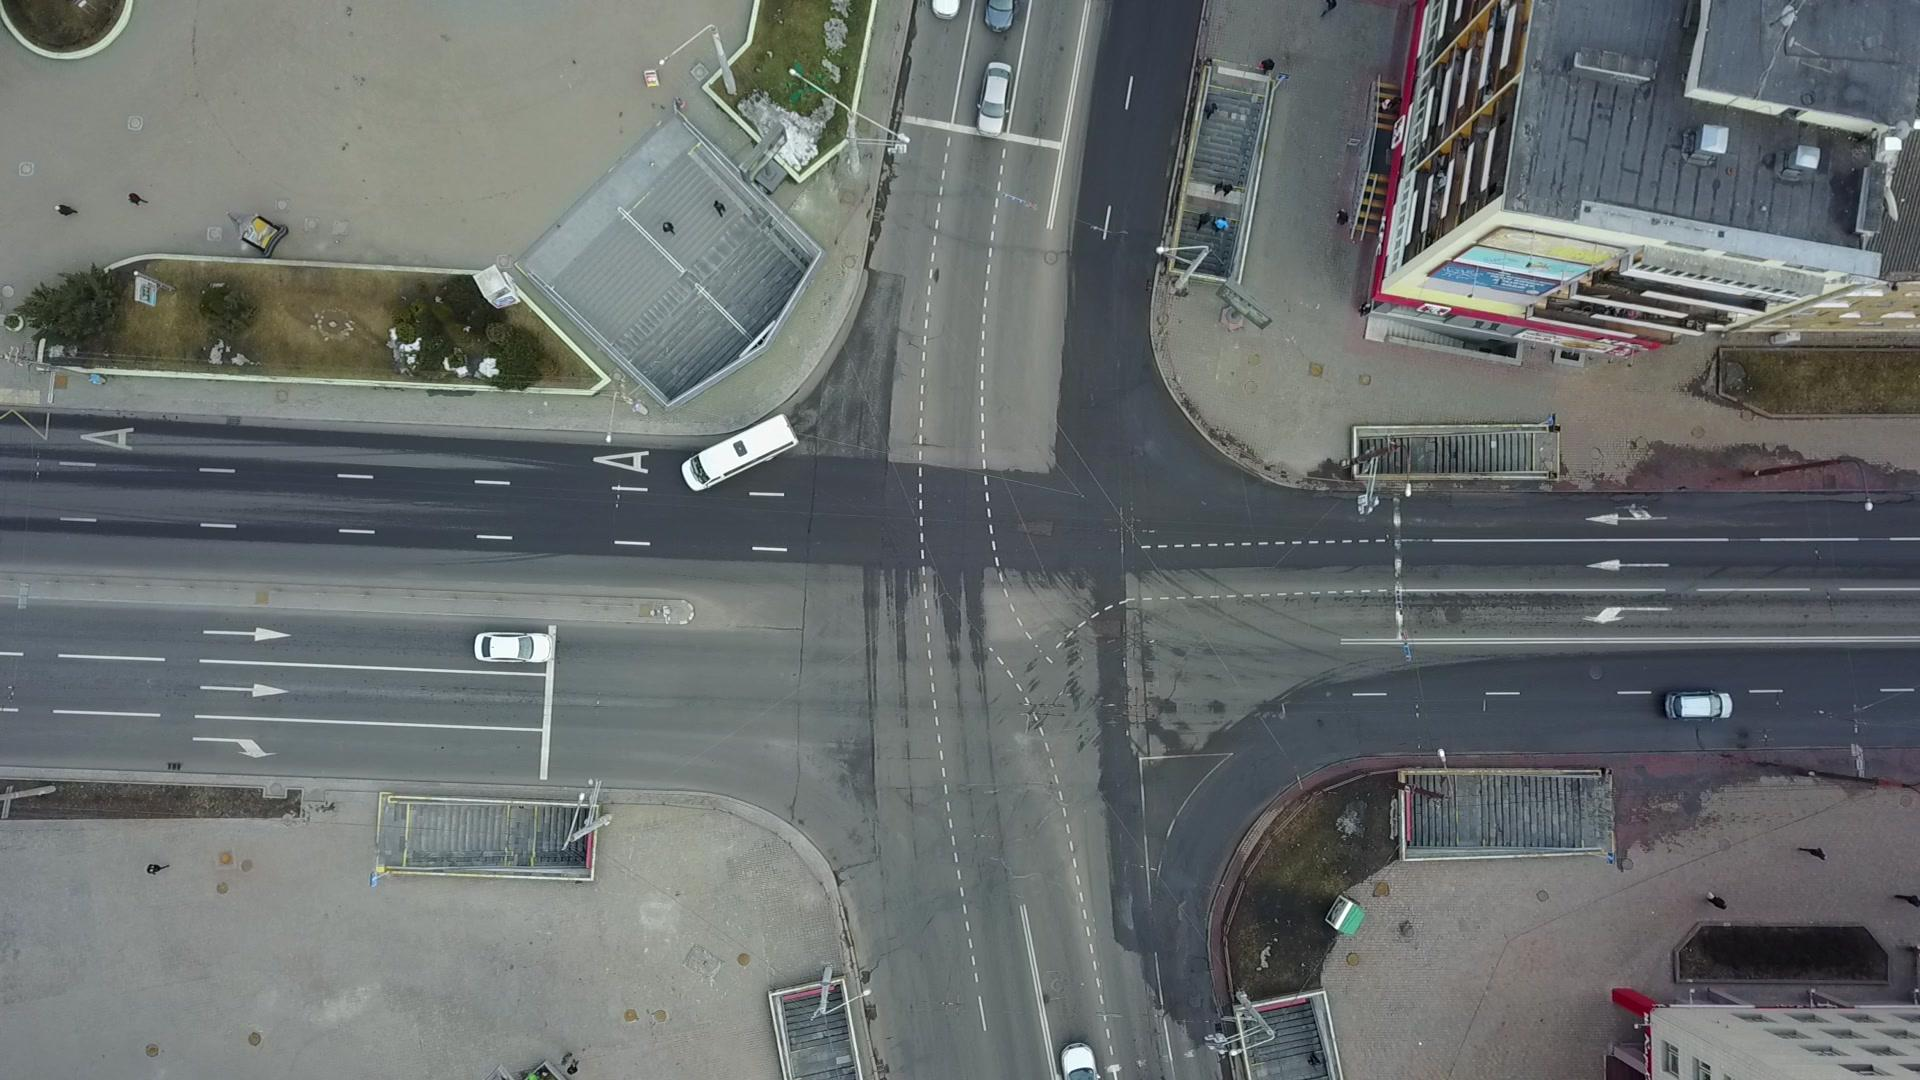car: (976, 61, 1015, 138), (471, 629, 554, 665), (1664, 688, 1735, 723)
